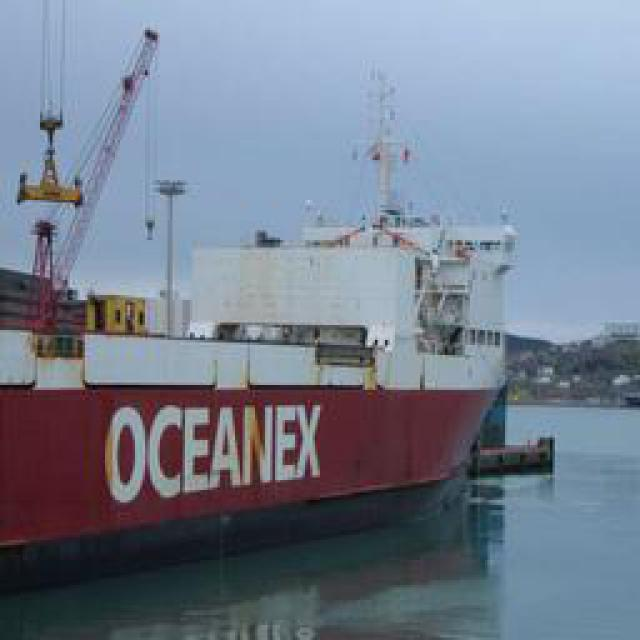Ship: (7, 36, 510, 591)
